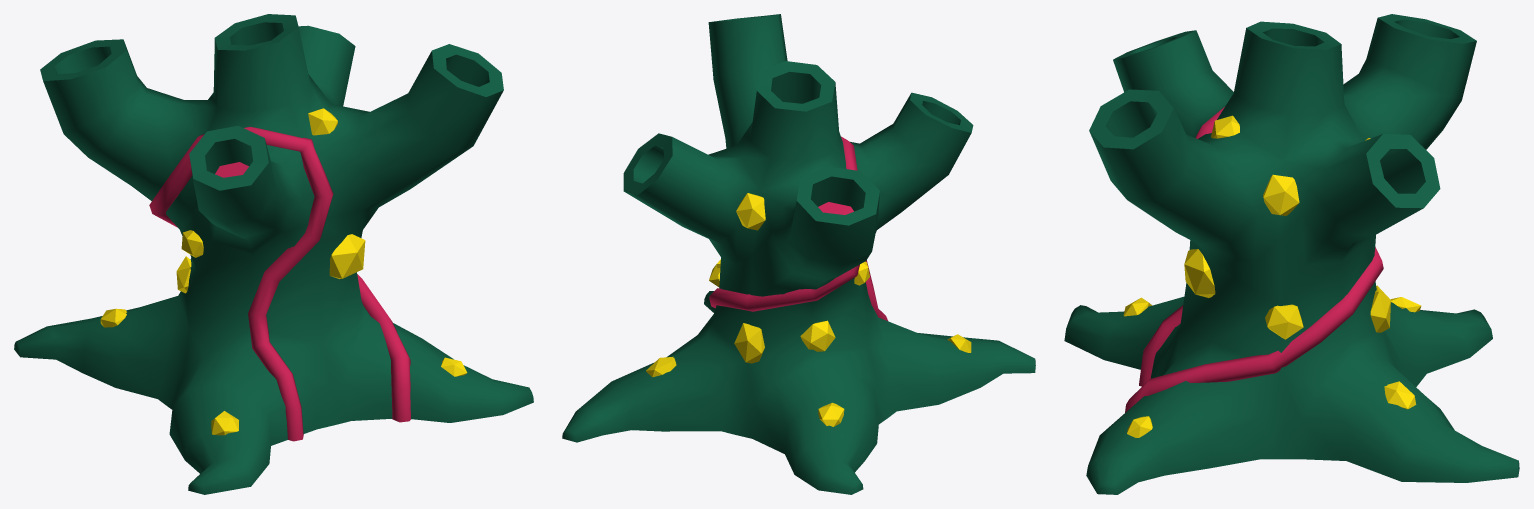
File: Plant_8_green.fbx
The picture shows the model from 3 angles, left to right: view 1: azimuth 30°, elevation 25°; view 2: azimuth 150°, elevation 25°; view 3: azimuth 270°, elevation 25°; orthographic projection. The views are drawn at different scales.
Visible parts, largest first — view 1: Plant_8_green; view 2: Plant_8_green; view 3: Plant_8_green.
Boxes of the visible parts, x1=… form: Plant_8_green: x1=14, y1=14, x2=533, y2=494; Plant_8_green: x1=562, y1=14, x2=1035, y2=494; Plant_8_green: x1=1064, y1=14, x2=1519, y2=494.
Size of the model in its own units: 2.76 by 2.68 by 2.95.
